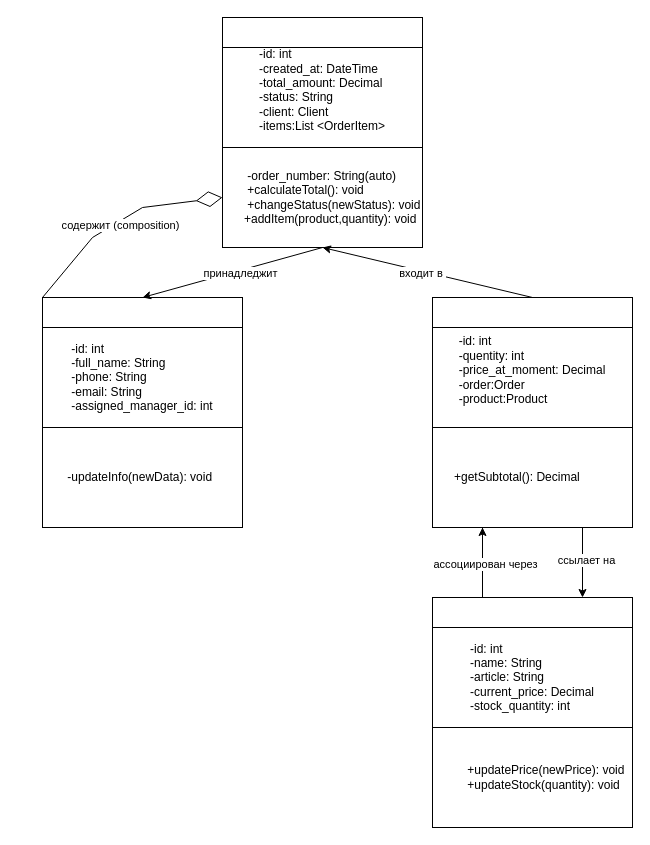
This 650x845 diagram has some shape labels left out. The shapes that lost their labels are listed below. From the top down, each one's centre as x and y in pixels, then its label:
At (x=322, y=32): "Order".
At (x=142, y=312): "Client".
At (x=532, y=312): "OrderItem".
At (x=532, y=612): "Product".
